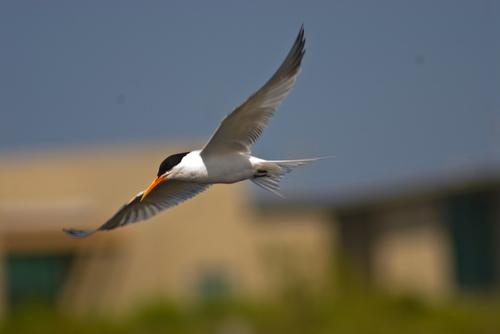bird: (62, 24, 335, 238)
